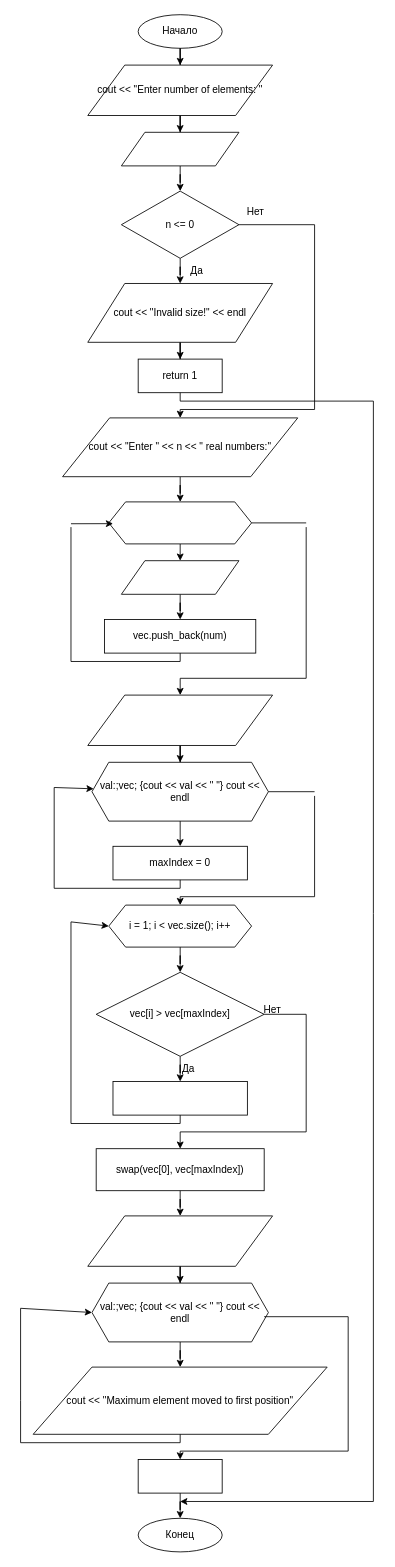
The diagram is 395 pixels wide and 1567 high, and some of its shapes have lost their labels. Here are the shapes that lost their labels. From the top down, the centre of each, then its label:
the point at 180,148: cin >> n
the point at 180,522: i = 0; i < n; i++
the point at 180,577: cin >> num
the point at 180,720: cout << "\nOriginal vector:"
the point at 179,1098: maxIndex = i
the point at 180,1240: cout << "Result vector:"
the point at 179,1476: return 0
